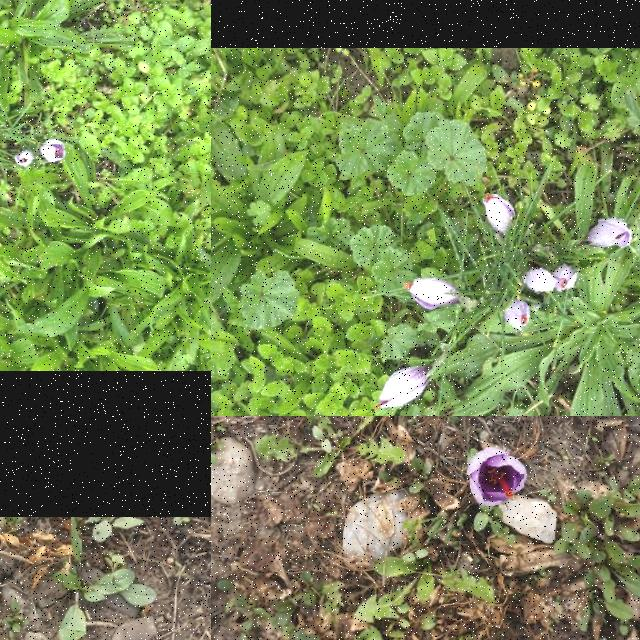flower: (466, 447, 528, 507), (376, 364, 436, 410), (404, 278, 462, 310), (482, 193, 516, 237), (588, 219, 632, 249), (504, 300, 530, 330), (41, 138, 65, 162), (15, 151, 33, 167)
overlap: (524, 265, 578, 293)
